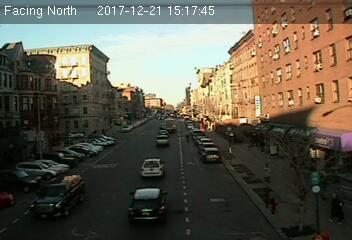car: (34, 174, 85, 217), (129, 187, 167, 224), (140, 157, 164, 177), (201, 148, 221, 162), (155, 134, 169, 145)
